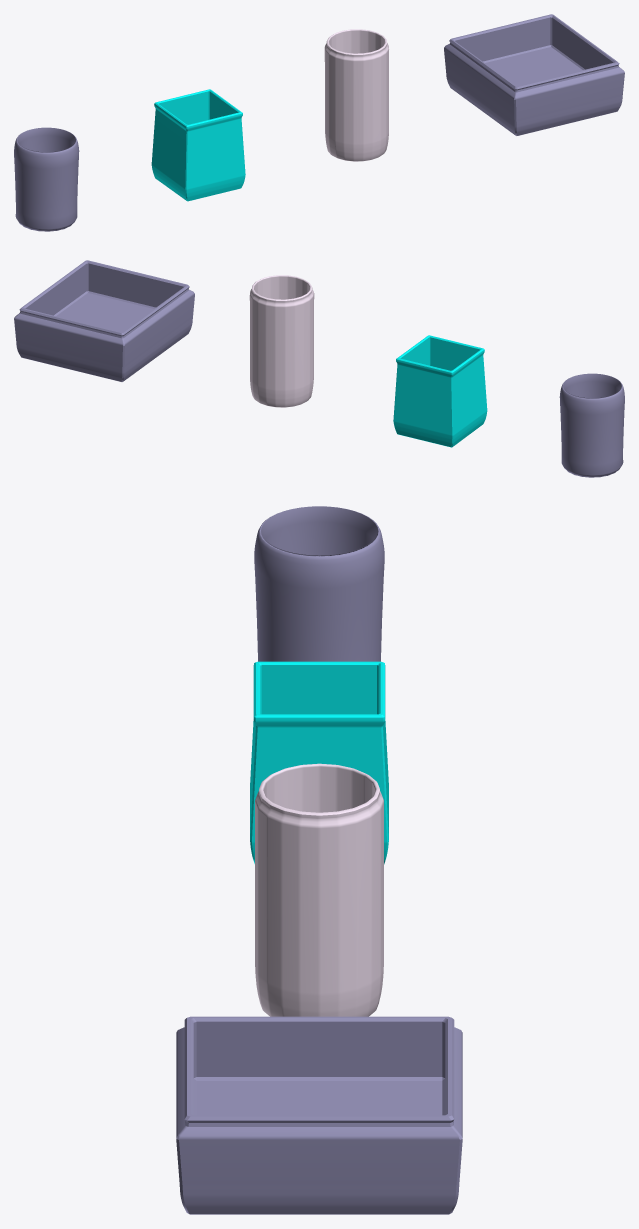
Rendered from contenant.fbx.
3 renders of one model, top to bottom at view 1: azimuth 30°, elevation 25°; view 2: azimuth 150°, elevation 25°; view 3: azimuth 270°, elevation 25°, orthographic. The views are drawn at different scales.
Visible parts, largest first — view 1: pCube2, pCube1, pCylinder2, pCylinder1; view 2: pCube2, pCube1, pCylinder2, pCylinder1; view 3: pCube2, pCylinder2, pCylinder1, pCube1.
Part boxes in pixels (left/top/right/bottom): pCube2: left=444, top=14, right=624, bottom=135; pCube1: left=151, top=89, right=245, bottom=201; pCylinder2: left=324, top=29, right=388, bottom=161; pCylinder1: left=14, top=127, right=79, bottom=231; pCube2: left=14, top=260, right=194, bottom=381; pCube1: left=393, top=335, right=487, bottom=447; pCylinder2: left=249, top=275, right=314, bottom=407; pCylinder1: left=559, top=373, right=624, bottom=477; pCube2: left=176, top=1016, right=462, bottom=1214; pCylinder2: left=255, top=763, right=383, bottom=1016; pCylinder1: left=254, top=506, right=384, bottom=661; pCube1: left=250, top=661, right=388, bottom=864.
Bounding box in the file's own units: 21.5 × 3.89 × 4.67.
